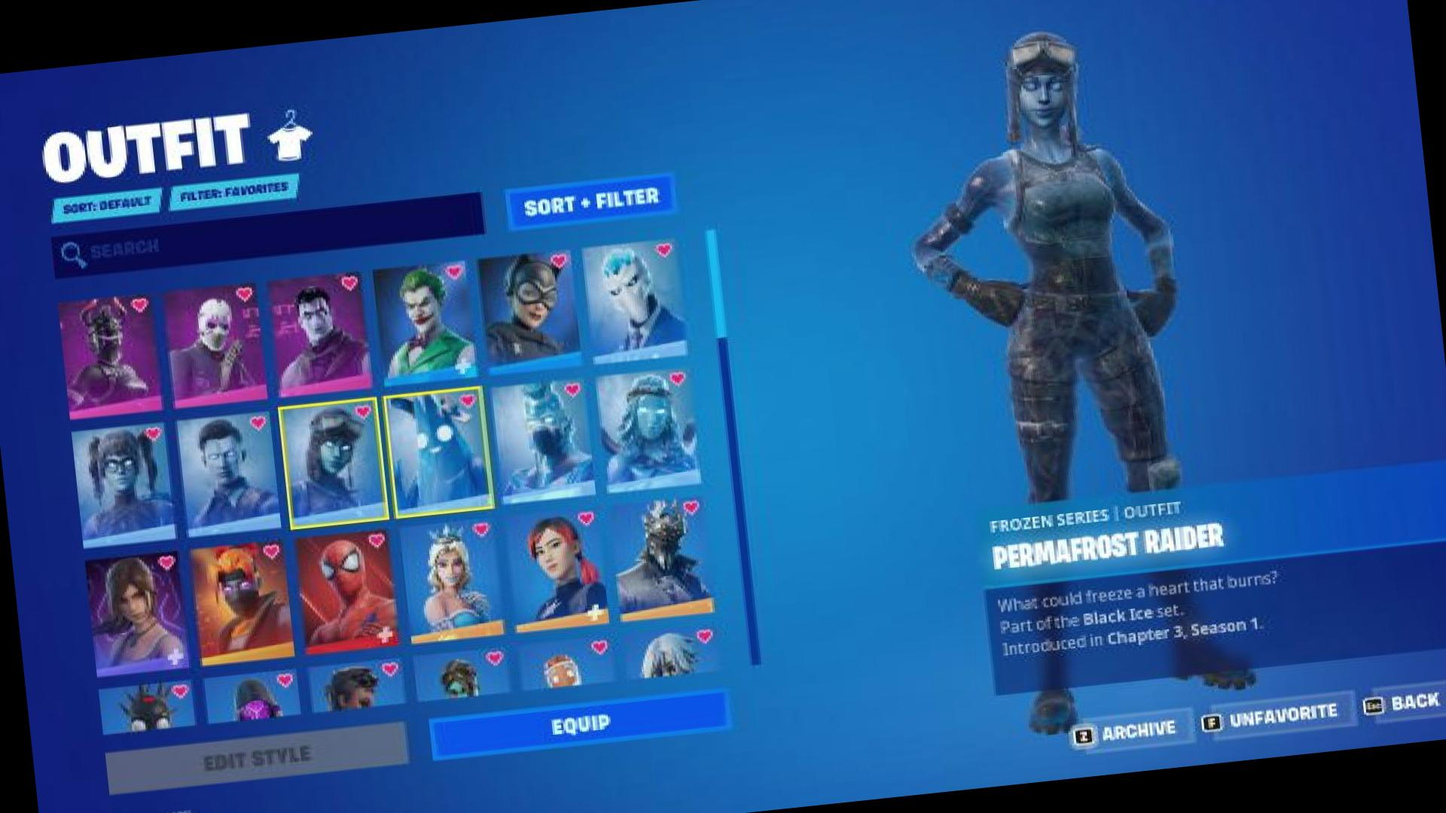player: (921, 5, 1281, 738)
